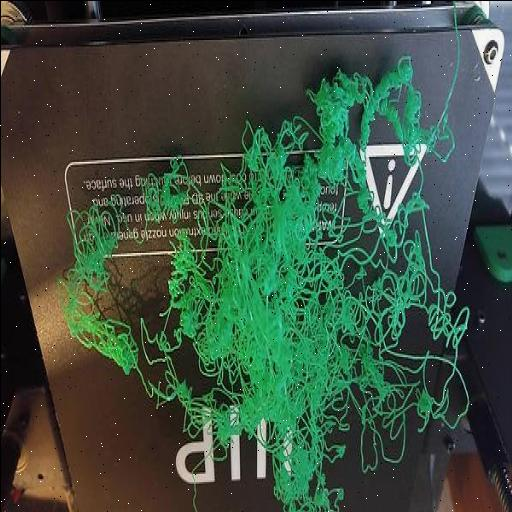spaghetti: (54, 56, 468, 512)
